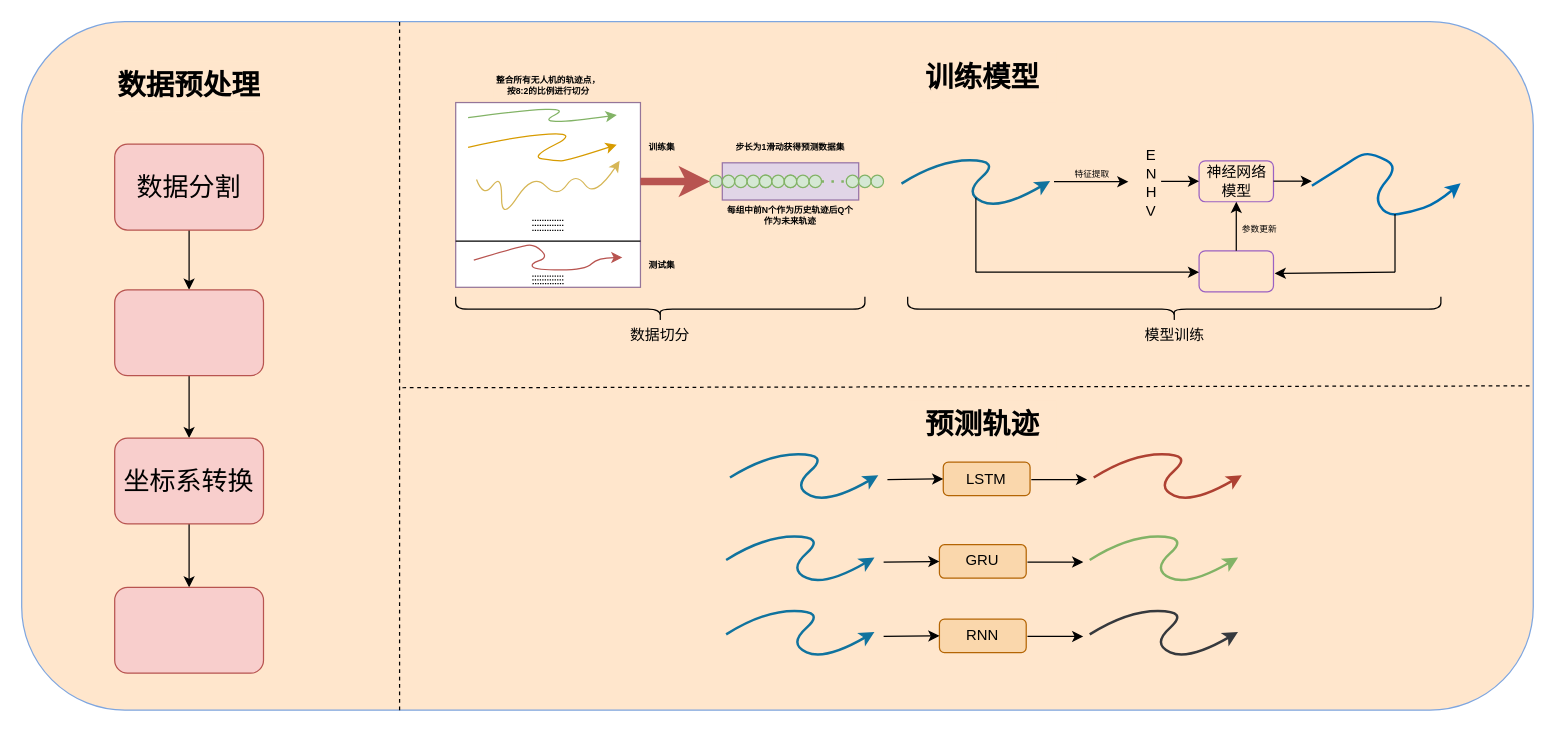
The diagram is 1555 pixels wide and 734 high, and some of its shapes have lost their labels. Each missing label, with the centre of its shape:
"处理异常值和缺失值" belongs at [188,332].
"计算误差" belongs at [1235,271].
"轨迹插值" belongs at [188,629].
